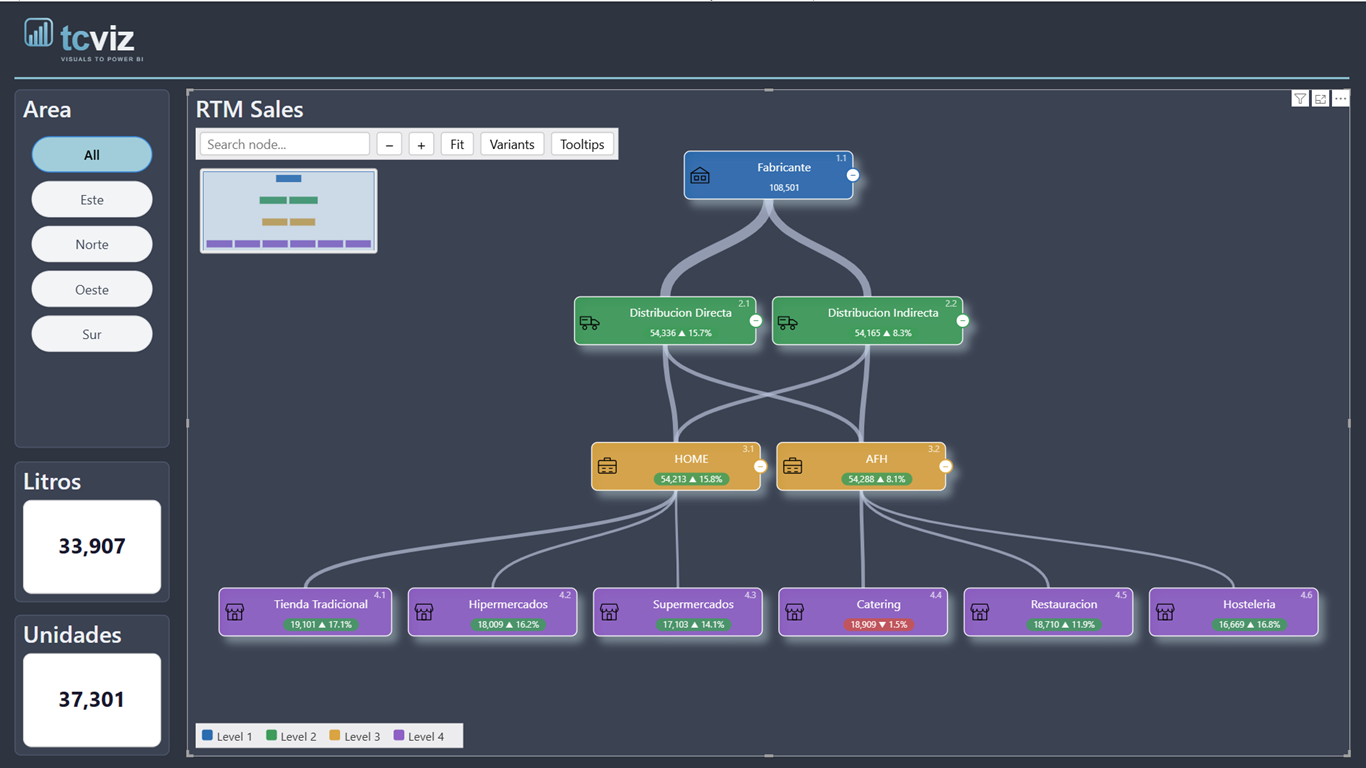

What the dashboard file says about the page in this screenshot:
{"tool":"powerbi","page":{"name":"Page 1","canvas":[1920,1080],"ordinal":0},"visuals":[{"type":"slicer","fields":{"Values":["sample_data_swimlanes - Copy.Area"]},"box":[13.5,36.3,163.8,223.9],"z":0},{"type":"flowChart69C501A62F7E49748AD3DA7D4E840200","fields":{"levels":["sample_data_swimlanes - Copy.Level1","sample_data_swimlanes - Copy.Level2","sample_data_swimlanes - Copy.Level4"],"levelImages":["Min(sample_data_swimlanes - Copy.Level1Image)","Min(sample_data_swimlanes - Copy.Level2Image)","Min(sample_data_swimlanes - Copy.Level4Image)"],"value":["Sum(sample_data_swimlanes - Copy.ValorEUR)"],"target":["Sum(sample_data_swimlanes - Copy.target)"]},"box":[190.9,27,1710.5,1036.2],"z":1}]}

Visuals, with their boxes on the page's 1920x1080 design canvas (x1, y1, x2, y2). These are canvas units, not pixel positions in the 1366x768 screenshot, which may show the page scaled, cropped or inside an application window:
slicer - sample_data_swimlanes - Copy.Area: Rect(14, 36, 177, 260)
flowChart69C501A62F7E49748AD3DA7D4E840200 - sample_data_swimlanes - Copy.Level1 x sample_data_swimlanes - Copy.Level2: Rect(191, 27, 1901, 1063)
